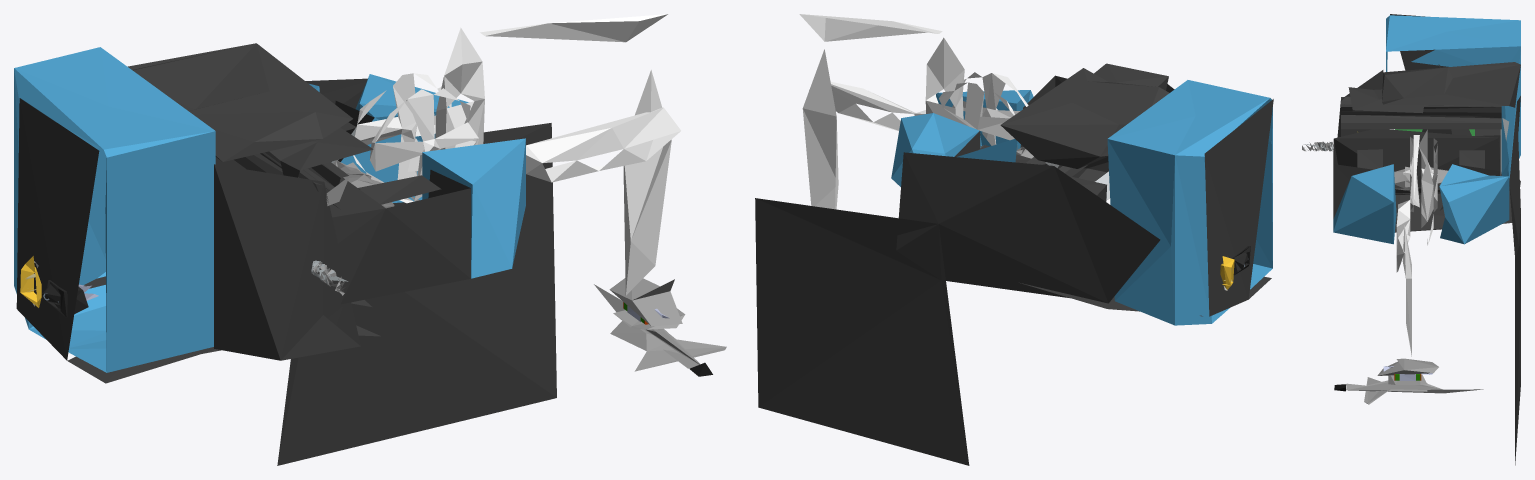
Rendered from rig.lod0.glb.
3 views of the same model, side by side, from view 1: azimuth 30°, elevation 25°; view 2: azimuth 150°, elevation 25°; view 3: azimuth 270°, elevation 25° (orthographic). The views are drawn at different scales.
Parts seen in each view (by area): view 1: root_base, Component4_1, Component12_1, Component2_1, Component3_1, Component11_1, Component14_1, Sharpie_Pen_1; view 2: root_base, Component12_1, Component3_1, Component2_1, Component4_1; view 3: root_base, Component2_1, Sharpie_Pen_1, Component4_1, Component11_1, Component12_1, Component3_1, Component14_1, 2664N353_Metal_Gear_-_20_Degree_Pressure_Angle_2.
Part boxes in pixels (x1,y1,x2,y2): root_base: (14,43,556,465); Component4_1: (526,107,680,182); Component12_1: (623,70,671,295); Component2_1: (407,27,484,201); Component3_1: (480,14,668,42); Component11_1: (609,278,682,326); Component14_1: (610,321,726,371); Sharpie_Pen_1: (594,284,712,376); root_base: (755,63,1273,465); Component12_1: (802,49,838,209); Component3_1: (799,14,942,41); Component2_1: (925,37,964,118); Component4_1: (830,82,925,131); root_base: (1302,14,1520,465); Component2_1: (1419,129,1433,245); Sharpie_Pen_1: (1334,380,1483,393); Component4_1: (1396,200,1410,272); Component11_1: (1377,358,1438,375); Component12_1: (1402,225,1411,356); Component3_1: (1410,135,1419,207); Component14_1: (1364,377,1427,404); 2664N353_Metal_Gear_-_20_Degree_Pressure_Angle_2: (1394,166,1416,191).
Size of the model in its own units: 0.3625 by 0.2604 by 0.1786.
